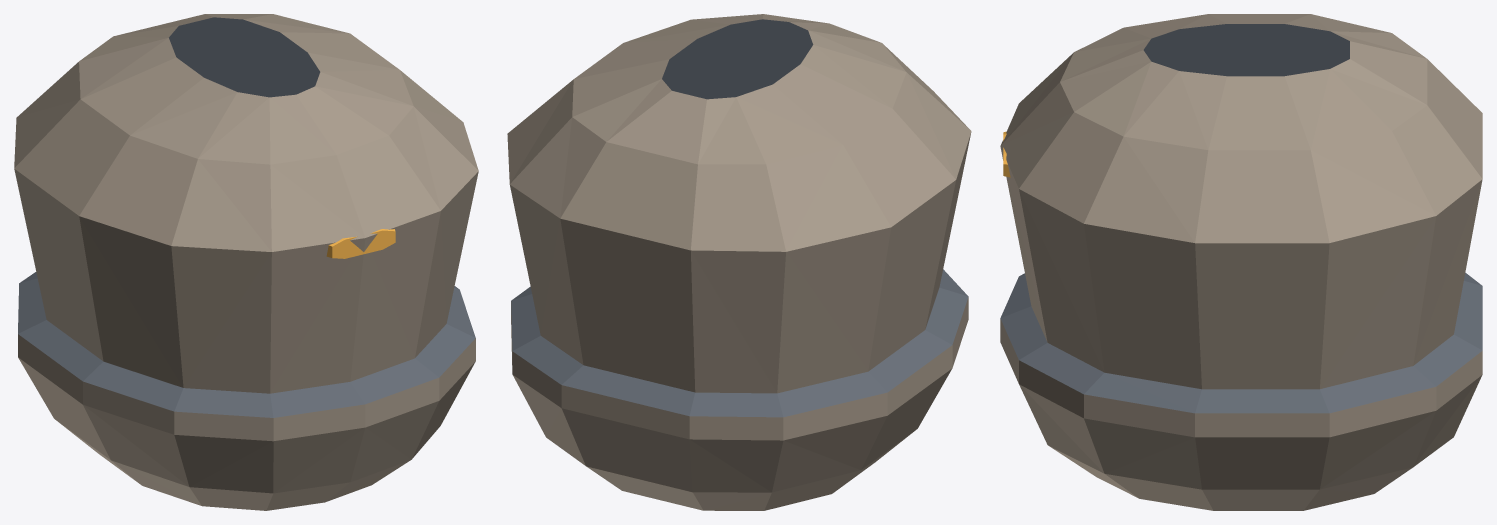
File: pauldron_medium.glb
3 renders of one model, left to right at view 1: azimuth 30°, elevation 25°; view 2: azimuth 150°, elevation 25°; view 3: azimuth 270°, elevation 25°, orthographic. The views are drawn at different scales.
Parts seen in each view (by area): view 1: pauldron_medium; view 2: pauldron_medium; view 3: pauldron_medium.
Boxes of the visible parts, <box> form: pauldron_medium: <box>14,14,478,510</box>; pauldron_medium: <box>507,14,971,510</box>; pauldron_medium: <box>1000,14,1482,510</box>.
Size of the model in its own units: 1.04 by 1 by 1.09.
